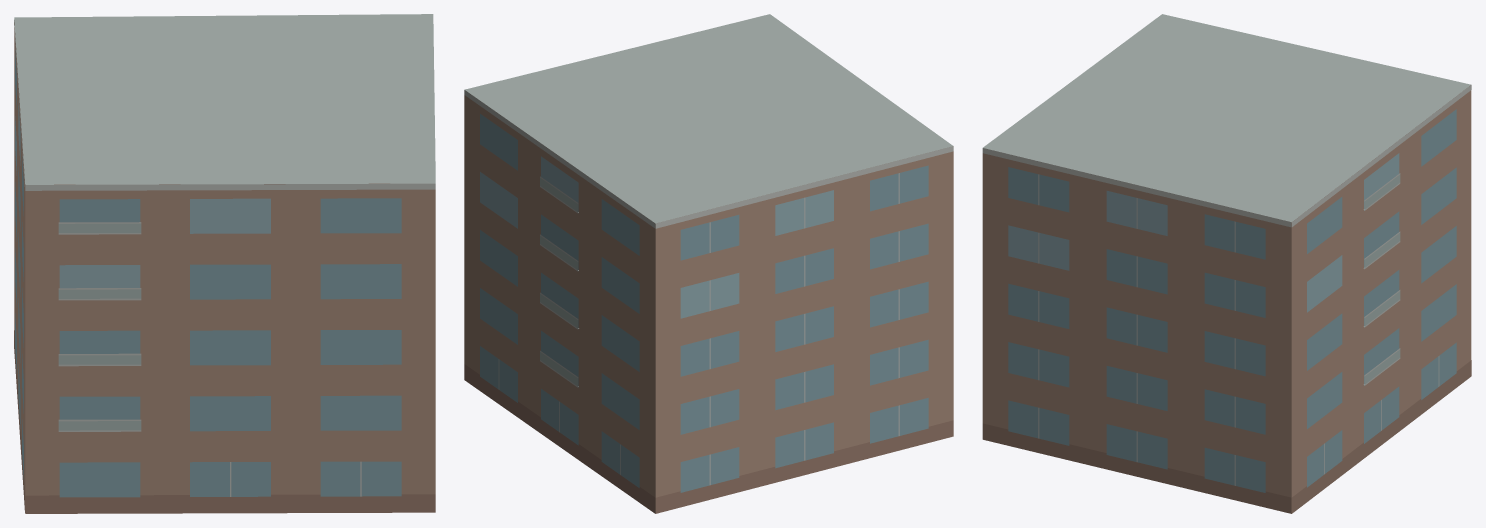
File: survey-upis-32943886.glb
The picture shows the model from 3 angles, left to right: view 1: azimuth 30°, elevation 25°; view 2: azimuth 150°, elevation 25°; view 3: azimuth 270°, elevation 25°; orthographic projection. The views are drawn at different scales.
Parts seen in each view (by area): view 1: survey-upis-32943886.tmp; view 2: survey-upis-32943886.tmp; view 3: survey-upis-32943886.tmp.
Part boxes in pixels (x1,y1,x2,y2): survey-upis-32943886.tmp: [14, 14, 435, 513]; survey-upis-32943886.tmp: [464, 14, 953, 513]; survey-upis-32943886.tmp: [982, 14, 1471, 513].
Bounding box in the file's own units: 20.52 × 13.4 × 20.36.
